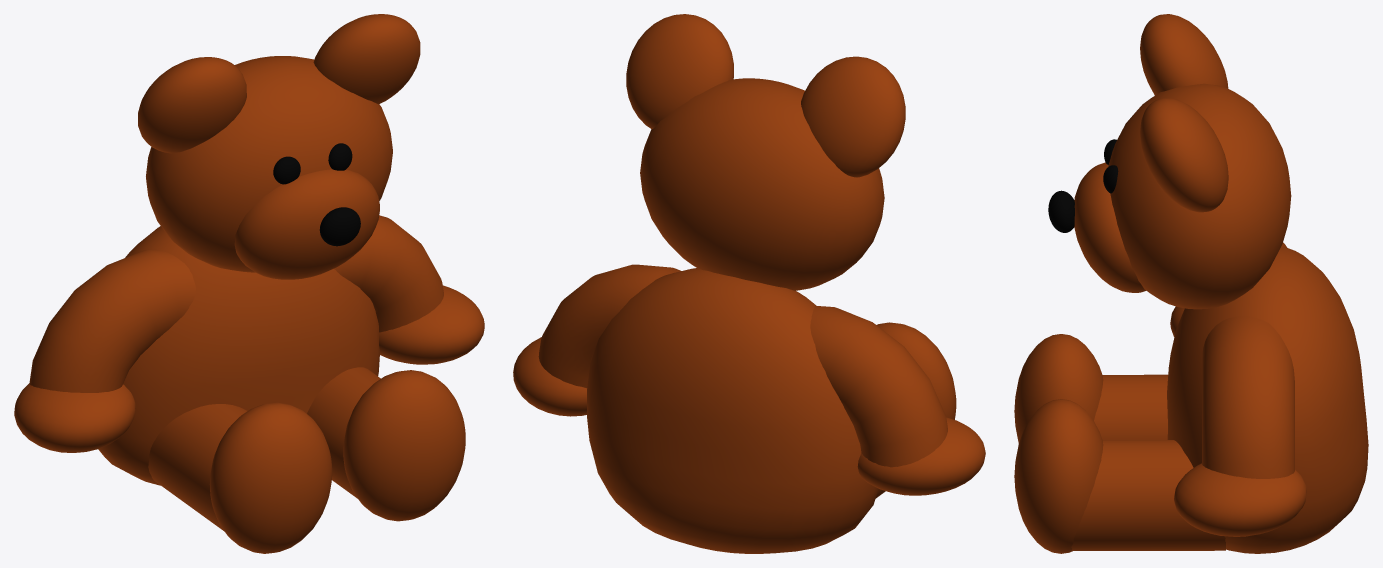
The model's file is TeddyBear.FBX.
3 views of the same model, side by side, from view 1: azimuth 30°, elevation 25°; view 2: azimuth 150°, elevation 25°; view 3: azimuth 270°, elevation 25° (orthographic).
Visible parts, largest first — view 1: Sphere006, Sphere007, Cylinder009, Sphere015, Sphere016, Sphere008, Sphere013, Cylinder008, Sphere014, Sphere019, Cylinder007, Sphere018 (+3 smaller); view 2: Sphere006, Sphere007, Cylinder009, Sphere013, Sphere014, Cylinder008, Sphere019, Sphere018, Sphere016; view 3: Sphere006, Sphere007, Cylinder008, Cylinder006, Sphere015, Sphere014, Sphere018, Sphere016, Sphere013, Sphere008, Cylinder007, Sphere012.
Part boxes in pixels (box(x1,y1,x2,y2)): Sphere006: box(98, 226, 379, 485); Sphere007: box(146, 56, 392, 272); Cylinder009: box(29, 249, 195, 392); Sphere015: box(343, 370, 465, 521); Sphere016: box(209, 402, 332, 553); Sphere008: box(234, 169, 379, 279); Sphere013: box(138, 57, 246, 153); Cylinder008: box(334, 215, 443, 332); Sphere014: box(313, 14, 420, 104); Sphere019: box(14, 383, 135, 452); Cylinder007: box(148, 404, 247, 531); Sphere018: box(379, 285, 484, 364); Sphere006: box(587, 268, 878, 553); Sphere007: box(640, 78, 884, 290); Cylinder009: box(810, 306, 947, 467); Sphere013: box(801, 56, 905, 177); Sphere014: box(626, 14, 733, 128); Cylinder008: box(538, 264, 680, 388); Sphere019: box(857, 417, 985, 495); Sphere018: box(513, 337, 586, 416); Sphere016: box(877, 322, 956, 419); Sphere006: box(1167, 246, 1368, 553); Sphere007: box(1108, 83, 1291, 309); Cylinder008: box(1202, 316, 1294, 478); Cylinder006: box(1071, 440, 1225, 550); Sphere015: box(1014, 399, 1103, 553); Sphere014: box(1140, 98, 1228, 212); Sphere018: box(1174, 463, 1306, 536); Sphere016: box(1014, 334, 1103, 443); Sphere013: box(1140, 14, 1228, 95); Sphere008: box(1074, 162, 1145, 292); Cylinder007: box(1094, 374, 1168, 439); Sphere012: box(1048, 190, 1074, 232).
Bounding box in the file's own units: 75.34 × 73.93 × 50.69.
